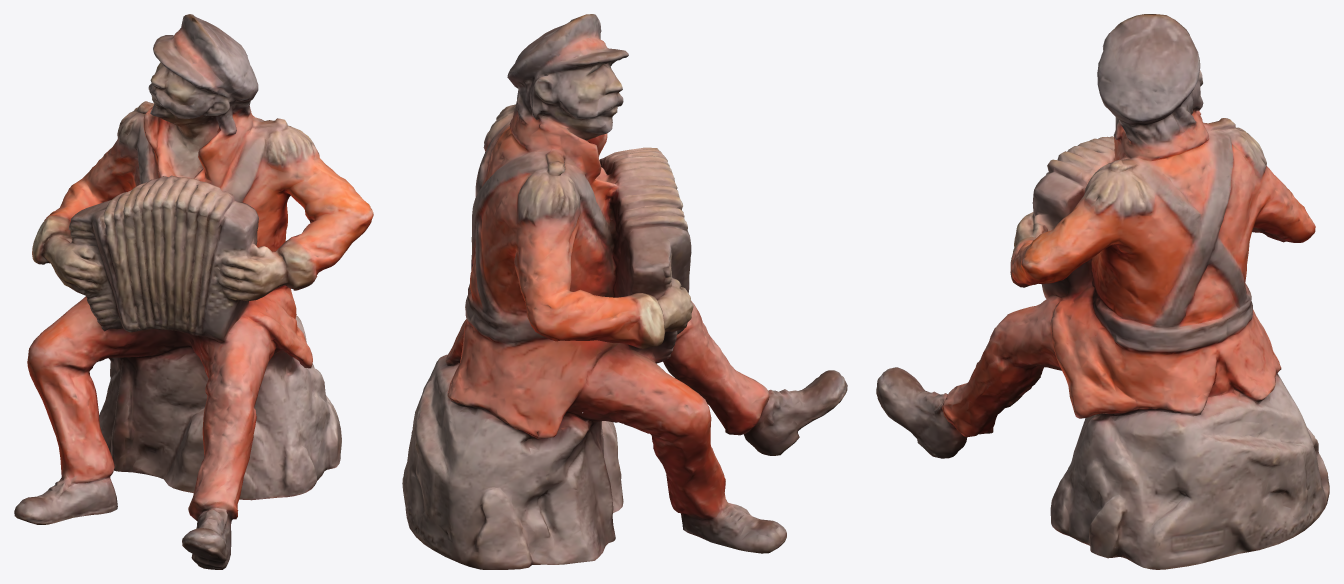
Rendered from khanna-retd-captain-ramesh-kumar-accordian-walae.glb.
The picture shows the model from 3 angles, left to right: view 1: azimuth 30°, elevation 25°; view 2: azimuth 150°, elevation 25°; view 3: azimuth 270°, elevation 25°; orthographic projection. The views are drawn at different scales.
Parts seen in each view (by area): view 1: sculptureB_002; view 2: sculptureB_002; view 3: sculptureB_002.
Part boxes in pixels (x1,y1,x2,y2): sculptureB_002: [14, 14, 373, 569]; sculptureB_002: [402, 14, 847, 569]; sculptureB_002: [876, 14, 1329, 569].
Bounding box in the file's own units: 18.95 × 24.81 × 21.27.
Materials: 1 (1 with a texture image).
